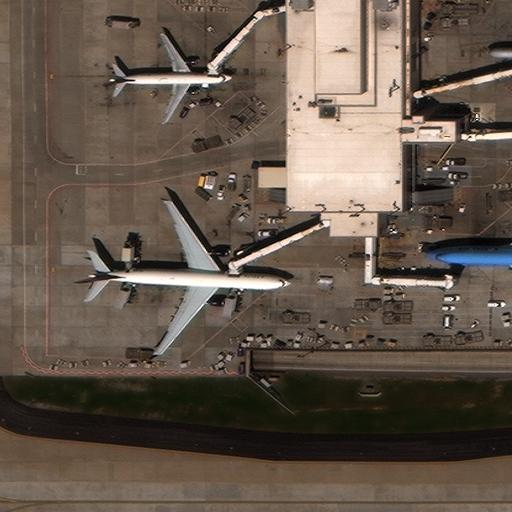Large Civil Transport: (74, 198, 293, 357), (414, 207, 511, 307)
Medium Civil Transport: (106, 34, 236, 124)
